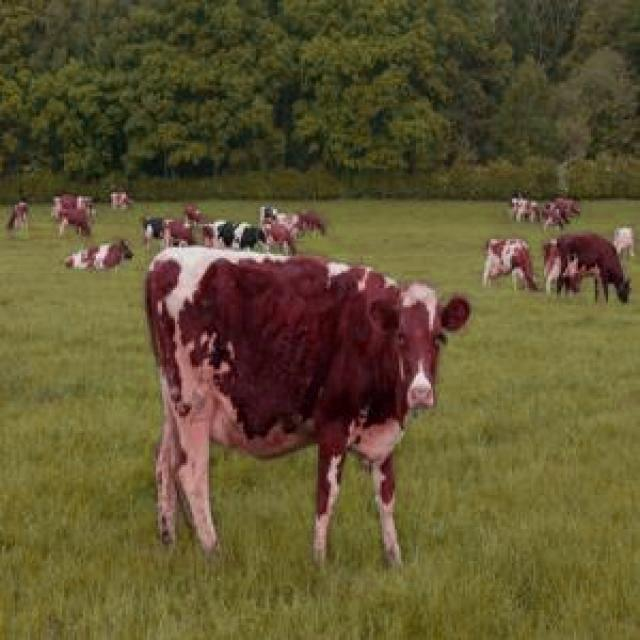cow: (146, 246, 470, 564)
